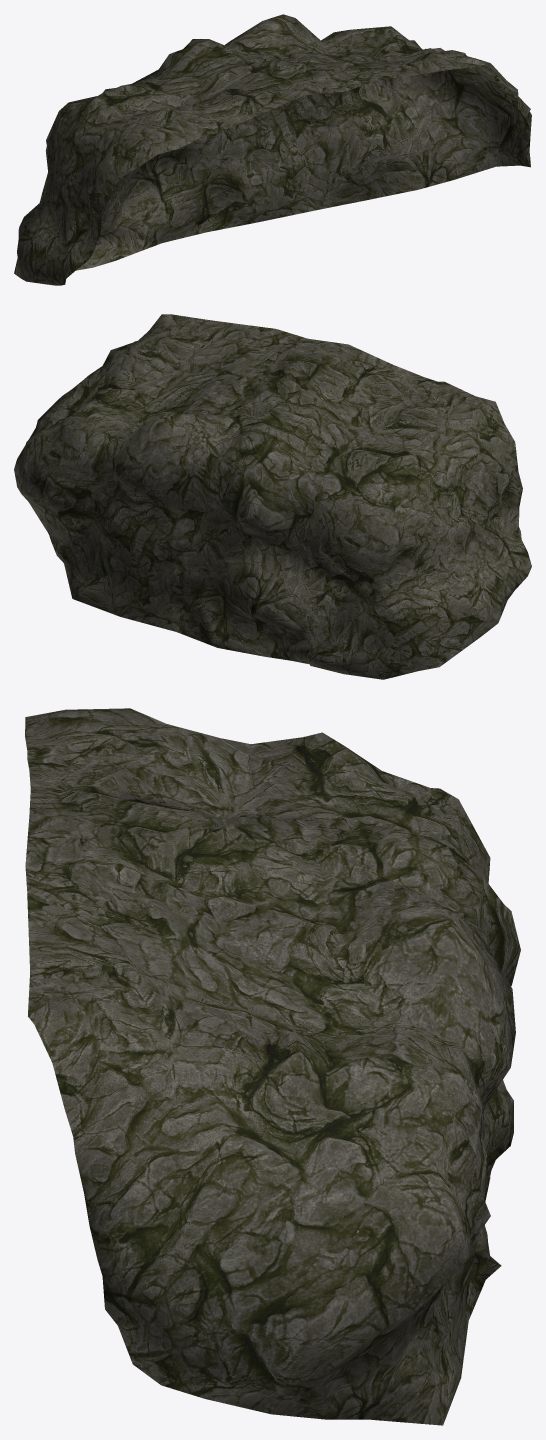
The model's file is TI_Cliff_01_h.fbx.
The picture shows the model from 3 angles, top to bottom: view 1: azimuth 30°, elevation 25°; view 2: azimuth 150°, elevation 25°; view 3: azimuth 270°, elevation 25°; orthographic projection. The views are drawn at different scales.
Parts seen in each view (by area): view 1: TI_Cliff_01_h; view 2: TI_Cliff_01_h; view 3: TI_Cliff_01_h.
Part boxes in pixels (bbox=[...]): TI_Cliff_01_h: bbox=[14, 14, 531, 285]; TI_Cliff_01_h: bbox=[14, 314, 531, 679]; TI_Cliff_01_h: bbox=[25, 708, 520, 1425].
Bounding box in the file's own units: 12.58 × 5.73 × 5.65.
